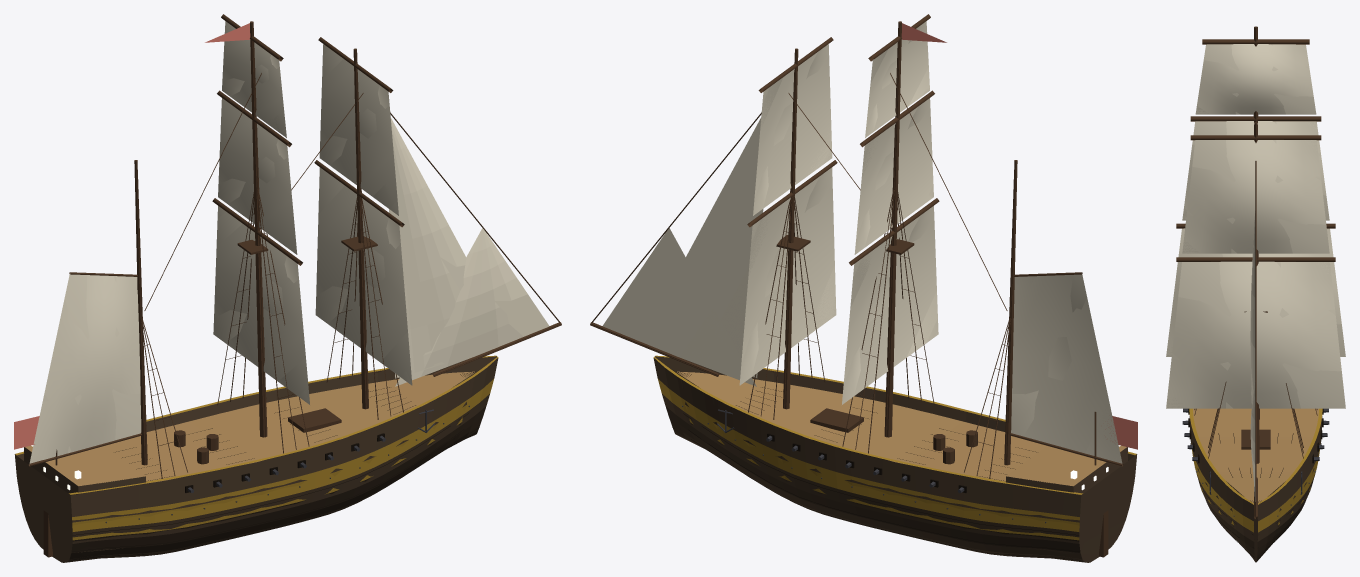
The model's file is barque.glb.
3 renders of one model, left to right at view 1: azimuth 30°, elevation 25°; view 2: azimuth 150°, elevation 25°; view 3: azimuth 270°, elevation 25°, orthographic. The views are drawn at different scales.
Visible parts, largest first — view 1: LOD0_Body, LOD2_Body, LOD2_m1_SquareSail, LOD2_m0_SquareSail, LOD0_m2_AftSail, LOD1_Body, LOD0_m1_SquareSail, LOD1_m0_SquareSail, LOD0_m0_SquareSail, LOD1_m1_SquareSail, LOD1_m2_AftSail, LOD0_Flag; view 2: LOD0_Body, LOD2_Body, LOD2_m1_SquareSail, LOD2_m0_SquareSail, LOD2_m2_AftSail, LOD1_Body, LOD0_m1_SquareSail, LOD0_m0_SquareSail, LOD1_m1_SquareSail, LOD1_m0_SquareSail, LOD0_m2_AftSail, LOD1_m2_AftSail (+1 smaller); view 3: LOD0_m0_SquareSail, LOD0_m1_SquareSail, LOD0_Body, LOD2_Body, LOD1_m0_SquareSail, LOD1_m1_SquareSail, LOD1_Body.
Part boxes in pixels (<box>): LOD0_Body: <box>14,21,561,562</box>; LOD2_Body: <box>15,356,496,552</box>; LOD2_m1_SquareSail: <box>214,25,309,401</box>; LOD2_m0_SquareSail: <box>316,55,407,361</box>; LOD0_m2_AftSail: <box>28,272,141,466</box>; LOD1_Body: <box>17,23,561,562</box>; LOD0_m1_SquareSail: <box>212,14,309,404</box>; LOD1_m0_SquareSail: <box>318,49,412,384</box>; LOD0_m0_SquareSail: <box>314,37,411,385</box>; LOD1_m1_SquareSail: <box>216,21,309,404</box>; LOD1_m2_AftSail: <box>30,273,141,462</box>; LOD0_Flag: <box>14,23,250,449</box>; LOD0_Body: <box>590,21,1137,562</box>; LOD2_Body: <box>602,117,1136,554</box>; LOD2_m1_SquareSail: <box>843,27,937,395</box>; LOD2_m0_SquareSail: <box>741,52,836,376</box>; LOD2_m2_AftSail: <box>1012,275,1121,461</box>; LOD1_Body: <box>590,23,1134,562</box>; LOD0_m1_SquareSail: <box>842,14,939,404</box>; LOD0_m0_SquareSail: <box>739,37,837,385</box>; LOD1_m1_SquareSail: <box>850,49,937,357</box>; LOD1_m0_SquareSail: <box>748,77,835,331</box>; LOD0_m2_AftSail: <box>1010,272,1123,466</box>; LOD1_m2_AftSail: <box>1014,276,1121,462</box>; LOD0_m0_SquareSail: <box>1166,135,1341,408</box>; LOD0_m1_SquareSail: <box>1166,39,1341,356</box>; LOD0_Body: <box>1182,26,1329,562</box>; LOD2_Body: <box>1194,408,1317,558</box>; LOD1_m0_SquareSail: <box>1166,140,1345,408</box>; LOD1_m1_SquareSail: <box>1167,44,1345,356</box>; LOD1_Body: <box>1191,27,1320,561</box>.
Bounding box in the file's own units: 41.21 × 35.86 × 12.62.
Materials: 3 (1 with a texture image).
